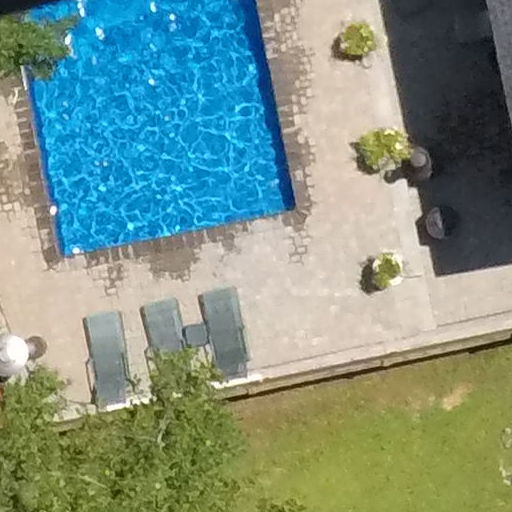flower pot: (347, 120, 414, 180), (355, 245, 412, 296), (328, 11, 381, 65)
pool: (8, 1, 304, 258)
